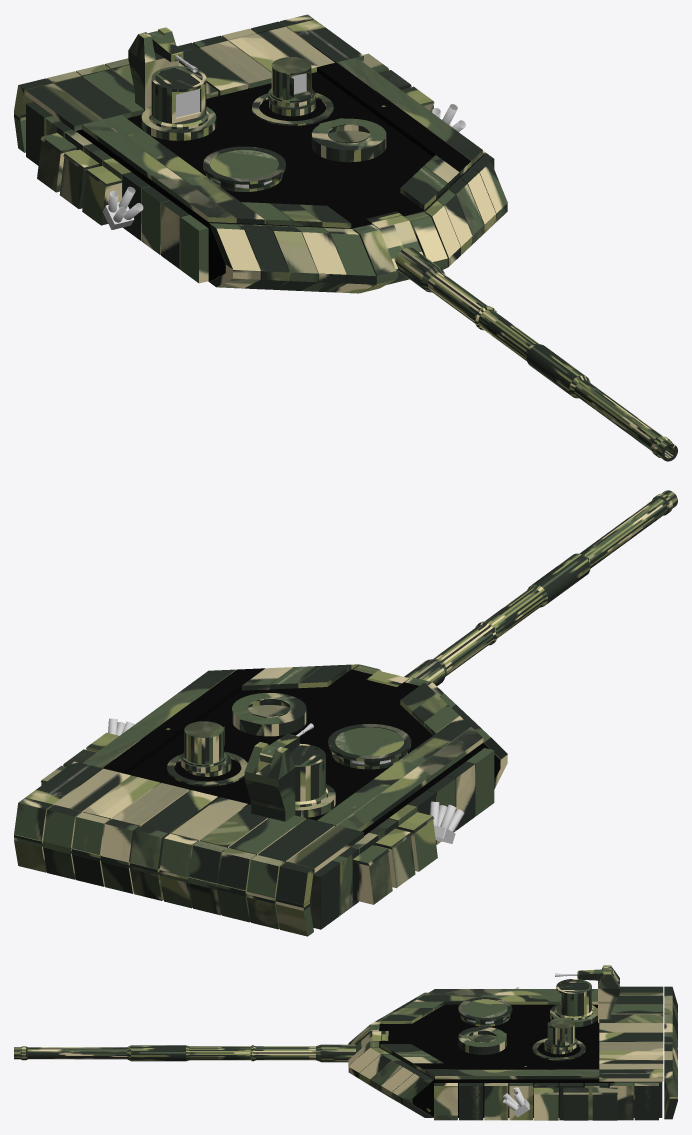
The model's file is tankHead.gltf.
The picture shows the model from 3 angles, top to bottom: view 1: azimuth 30°, elevation 25°; view 2: azimuth 150°, elevation 25°; view 3: azimuth 270°, elevation 25°; orthographic projection. The views are drawn at different scales.
Parts seen in each view (by area): view 1: Cube.005_Cube.004, Cube.006_Cube.032, Cylinder.001_Cylinder.005, Cube.086_Cube.087, Cylinder.004_Cylinder.007, Cylinder.003_Cylinder.006, Cube.008_Cube.045, Cube.007_Cube.033, Cube.070_Cube.071, Cube.014_Cube.097, Cylinder, Cube.003; view 2: Cube.005_Cube.004, Cube.006_Cube.032, Cylinder.001_Cylinder.005, Cube.086_Cube.087, Cylinder.004_Cylinder.007, Cylinder.003_Cylinder.006, Cube.008_Cube.045, Cube.070_Cube.071, Cylinder, Cube.014_Cube.097; view 3: Cube.005_Cube.004, Cube.006_Cube.032, Cube.014_Cube.097, Cylinder.001_Cylinder.005, Cylinder.004_Cylinder.007, Cylinder.003_Cylinder.006, Cube.008_Cube.045, Cube.051_Cube.065, Cylinder, Cube.003, Cube.007_Cube.033.
Part boxes in pixels (x1,y1,x2,y2): Cube.005_Cube.004: (14, 14, 507, 293); Cube.006_Cube.032: (395, 247, 677, 461); Cylinder.001_Cylinder.005: (128, 27, 216, 140); Cube.086_Cube.087: (37, 133, 122, 225); Cylinder.004_Cylinder.007: (203, 146, 285, 191); Cylinder.003_Cylinder.006: (311, 118, 386, 162); Cube.008_Cube.045: (268, 57, 314, 107); Cube.007_Cube.033: (368, 213, 423, 284); Cube.070_Cube.071: (102, 186, 143, 229); Cube.014_Cube.097: (362, 53, 434, 112); Cylinder: (252, 92, 333, 125); Cube.003: (148, 31, 197, 72); Cube.005_Cube.004: (14, 664, 507, 936); Cube.006_Cube.032: (404, 490, 677, 685); Cylinder.001_Cylinder.005: (244, 742, 335, 821); Cube.086_Cube.087: (352, 812, 437, 904); Cylinder.004_Cylinder.007: (328, 724, 411, 769); Cylinder.003_Cylinder.006: (232, 693, 306, 736); Cube.008_Cube.045: (180, 721, 227, 773); Cube.070_Cube.071: (430, 801, 464, 843); Cylinder: (167, 751, 247, 786); Cube.014_Cube.097: (41, 732, 118, 785); Cube.005_Cube.004: (348, 986, 677, 1120); Cube.006_Cube.032: (14, 1044, 355, 1062); Cube.014_Cube.097: (533, 1087, 617, 1120); Cylinder.001_Cylinder.005: (550, 965, 619, 1027); Cylinder.004_Cylinder.007: (458, 997, 512, 1026); Cylinder.003_Cylinder.006: (458, 1026, 506, 1054); Cube.008_Cube.045: (547, 1017, 577, 1051); Cube.051_Cube.065: (503, 1086, 529, 1117); Cylinder: (532, 1038, 585, 1060); Cube.003: (555, 969, 613, 980); Cube.007_Cube.033: (356, 1031, 388, 1052).
Size of the model in its own units: 2.38 by 0.9062 by 6.09.
Materials: 4 (1 with a texture image).
